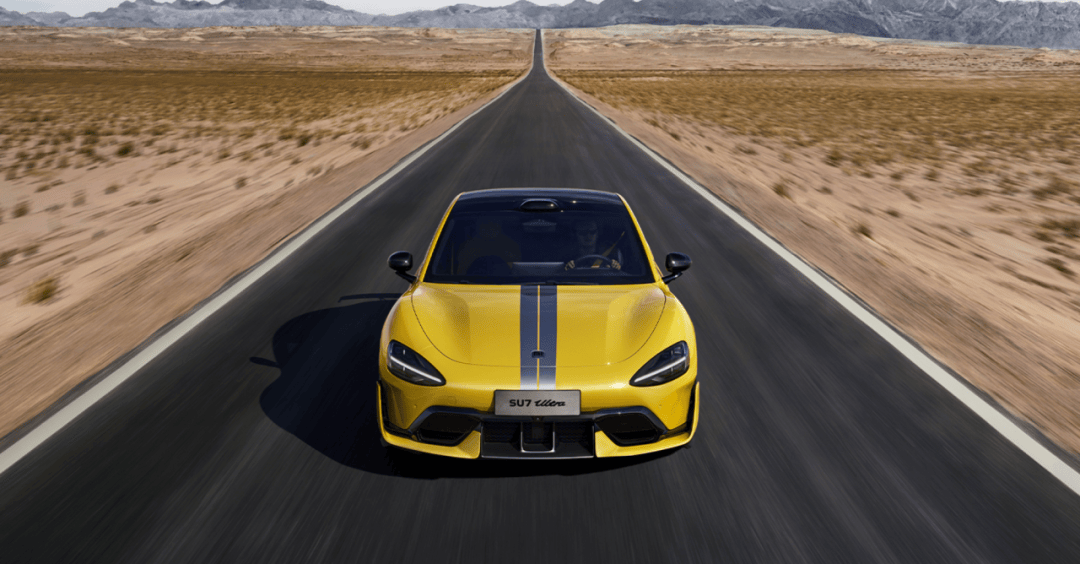su7: (387, 185, 706, 470)
